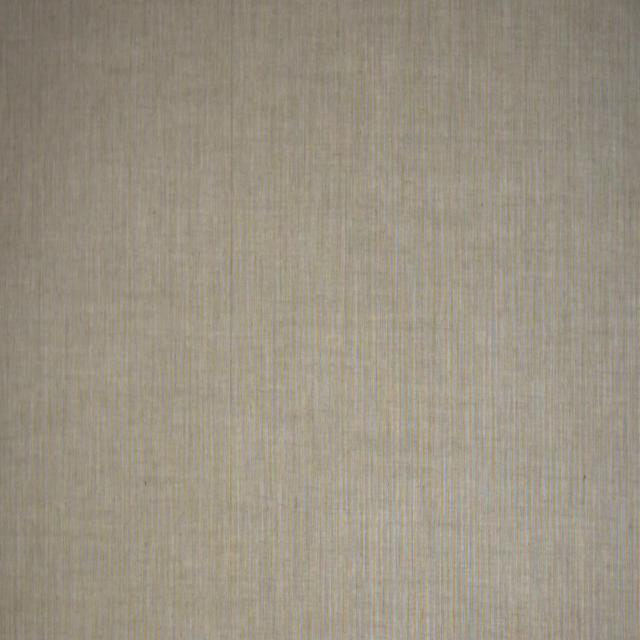dirty: (583, 473, 586, 481)
